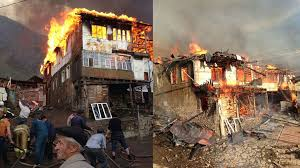fire: (40, 5, 143, 77), (168, 47, 293, 97)
